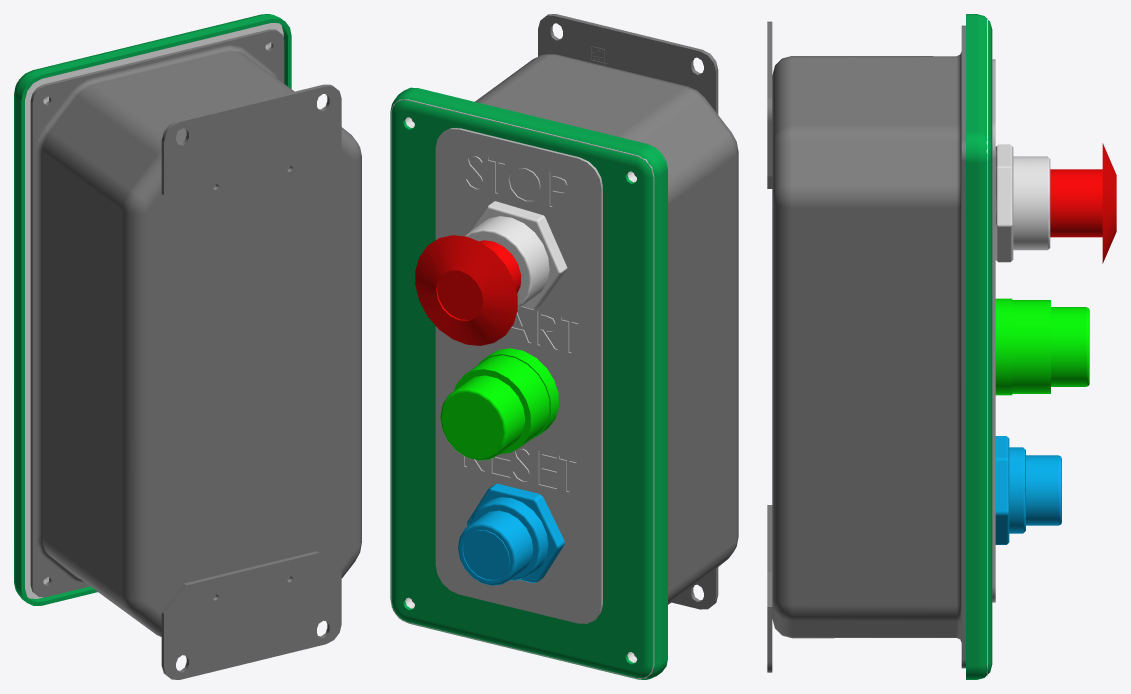
Rendered from Push Button.fbx.
3 views of the same model, side by side, from view 1: azimuth 30°, elevation 25°; view 2: azimuth 150°, elevation 25°; view 3: azimuth 270°, elevation 25° (orthographic). The views are drawn at different scales.
Parts seen in each view (by area): view 1: Sólido importado1 (×5); view 2: Sólido importado1 (×5), Cortar-Extruir1, Redondeo1 (×2), Saliente-Extruir3, Redondeo2; view 3: Sólido importado1 (×5), Redondeo1 (×2), Redondeo2, Saliente-Extruir3, Cortar-Extruir1.
Part boxes in pixels (x1=…): Sólido importado1 (×5): x1=14, y1=14, x2=361, y2=679; Sólido importado1 (×5): x1=390, y1=14, x2=738, y2=679; Cortar-Extruir1: x1=435, y1=128, x2=602, y2=623; Redondeo1 (×2): x1=440, y1=201, x2=567, y2=460; Saliente-Extruir3: x1=415, y1=235, x2=521, y2=345; Redondeo2: x1=458, y1=483, x2=564, y2=585; Sólido importado1 (×5): x1=767, y1=14, x2=992, y2=679; Redondeo1 (×2): x1=995, y1=144, x2=1089, y2=395; Redondeo2: x1=995, y1=436, x2=1061, y2=544; Saliente-Extruir3: x1=1050, y1=143, x2=1116, y2=263; Cortar-Extruir1: x1=992, y1=59, x2=995, y2=602.
Size of the model in its own units: 116 by 229 by 126.
